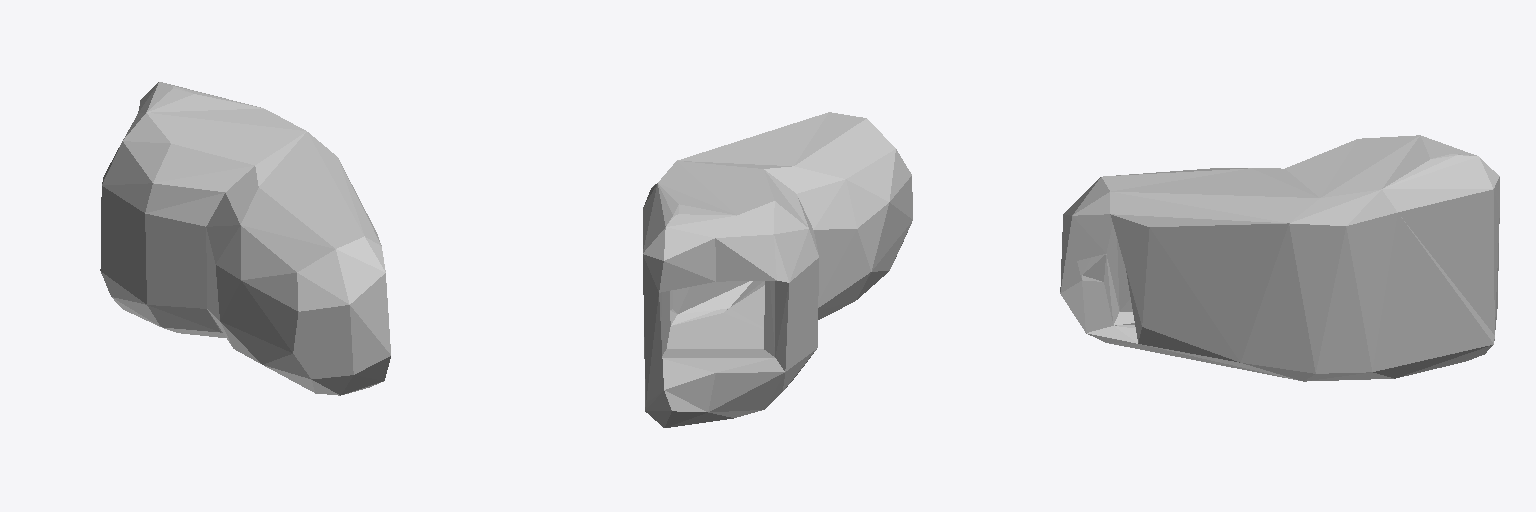
Rendered from right_collision_ring_ip_skin_mesh_mesh.obj.
3 renders of one model, left to right at view 1: azimuth 30°, elevation 25°; view 2: azimuth 150°, elevation 25°; view 3: azimuth 270°, elevation 25°, orthographic.
Bounding box in the file's own units: 0.0175 × 0.0199 × 0.038.